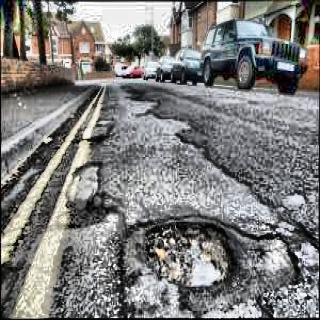crack: (70, 159, 104, 183), (77, 132, 110, 148)
pothole: (144, 216, 236, 292), (237, 220, 302, 303)
